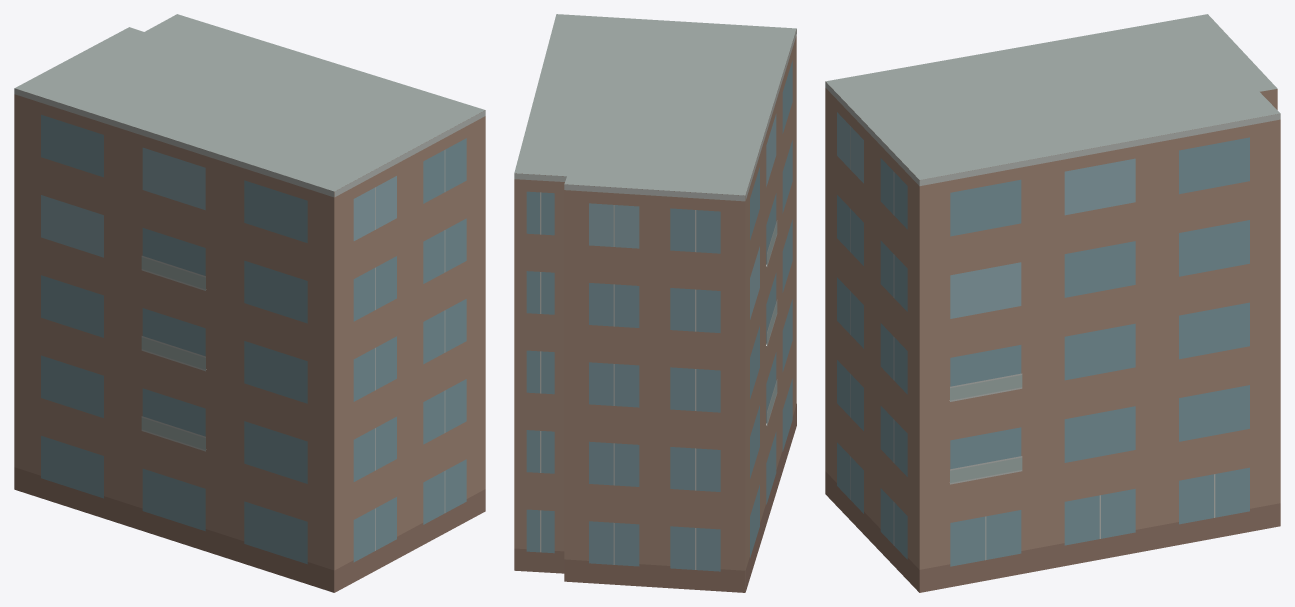
File: survey-upis-32889248.glb
3 views of the same model, side by side, from view 1: azimuth 30°, elevation 25°; view 2: azimuth 150°, elevation 25°; view 3: azimuth 270°, elevation 25° (orthographic). The views are drawn at different scales.
Parts seen in each view (by area): view 1: survey-upis-32889248.tmp; view 2: survey-upis-32889248.tmp; view 3: survey-upis-32889248.tmp.
Boxes of the visible parts, x1,y1,x2,y2 form: survey-upis-32889248.tmp: (14, 14, 485, 592); survey-upis-32889248.tmp: (514, 14, 796, 592); survey-upis-32889248.tmp: (825, 14, 1280, 592).
Bounding box in the file's own units: 14.25 × 16.5 × 16.5.
